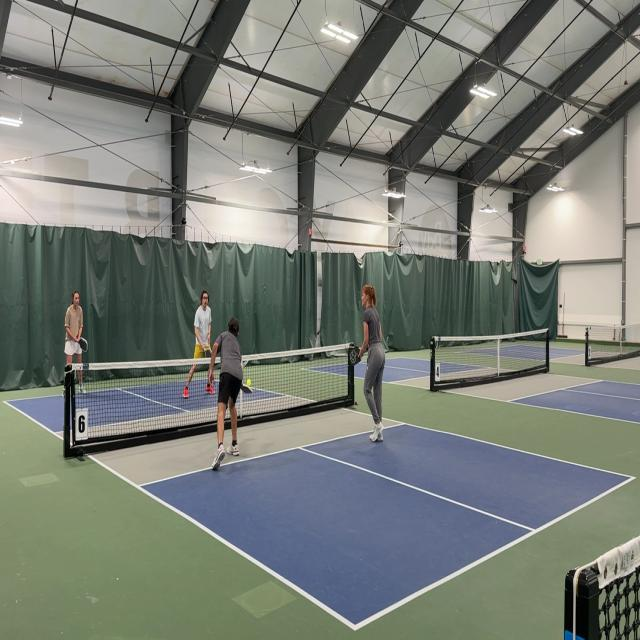ball: (246, 378, 251, 387)
